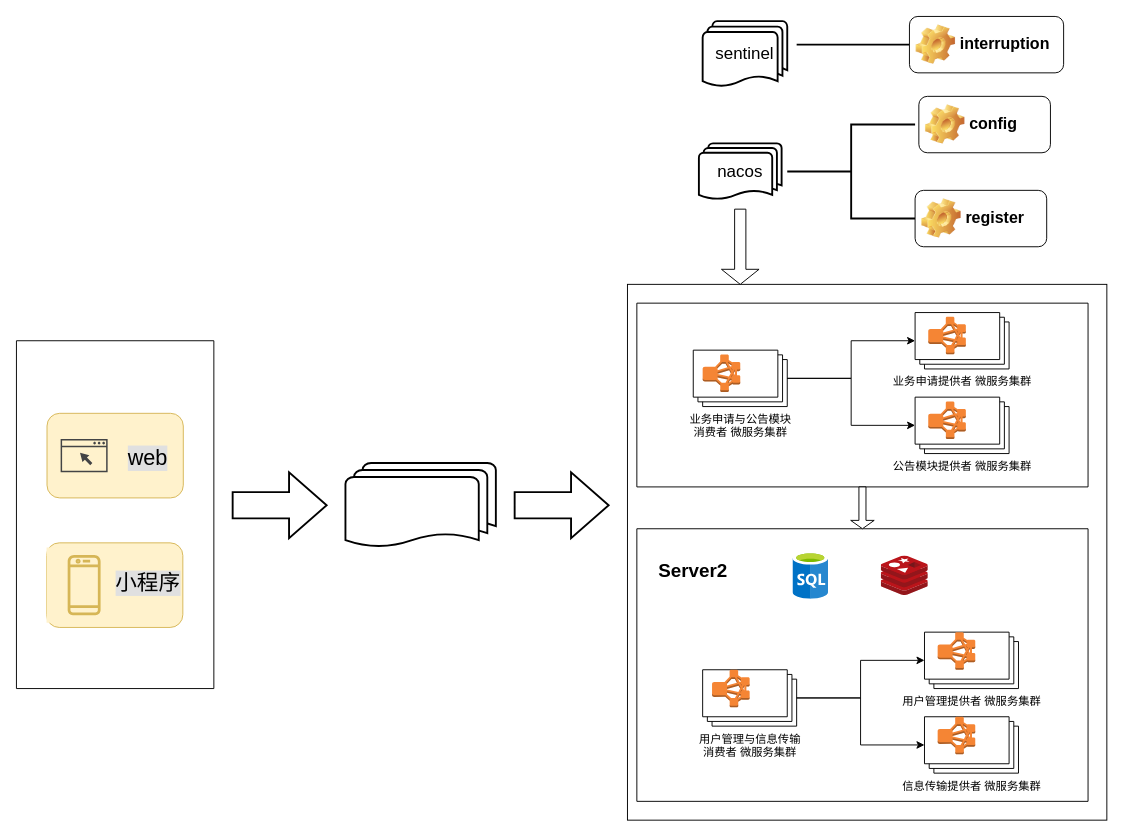
Image size: 1123x837. Some labels were removed from this diagram. Each missing label, with the centre of its shape:
"Gateway" goes at point (420, 505).
"MySQL" goes at point (810, 575).
"Redis" goes at point (904, 575).
"Server1" goes at point (862, 394).
